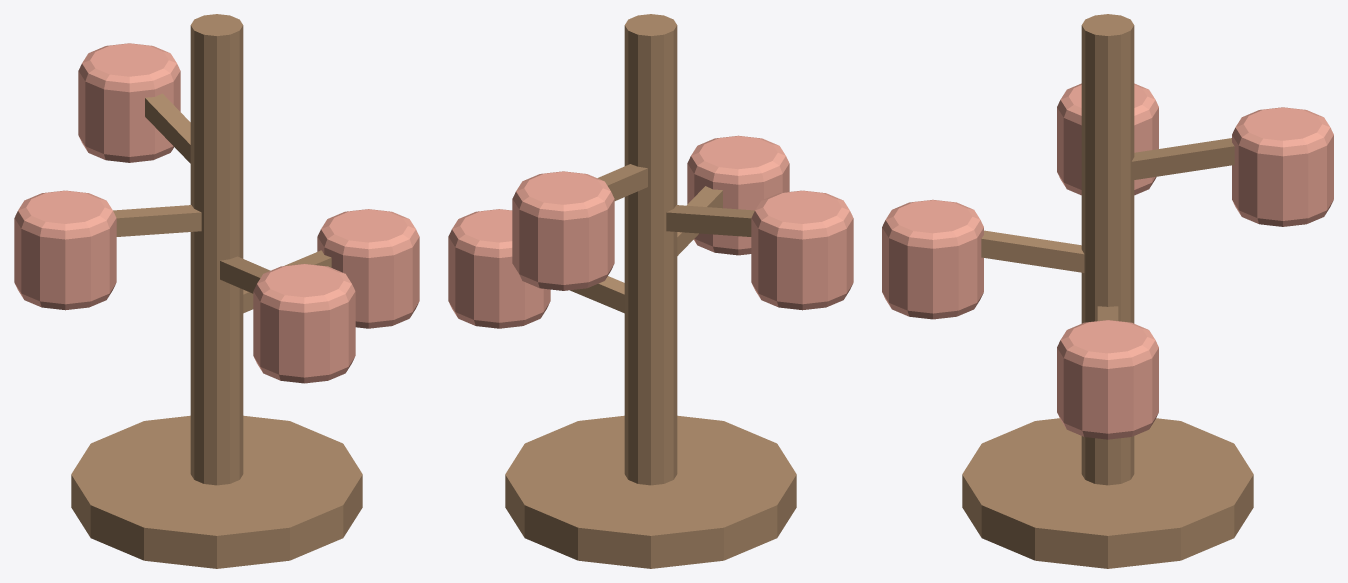
File: cozy-home-interiors-mug-tree-506953b7.glb
The picture shows the model from 3 angles, left to right: view 1: azimuth 30°, elevation 25°; view 2: azimuth 150°, elevation 25°; view 3: azimuth 270°, elevation 25°; orthographic projection.
Parts seen in each view (by area): view 1: mug-tree; view 2: mug-tree; view 3: mug-tree.
Boxes of the visible parts, x1,y1,x2,y2 form: mug-tree: (14,14,419,568); mug-tree: (448,14,853,568); mug-tree: (882,14,1333,568).
Size of the model in its own units: 0.31 by 0.365 by 0.31.
